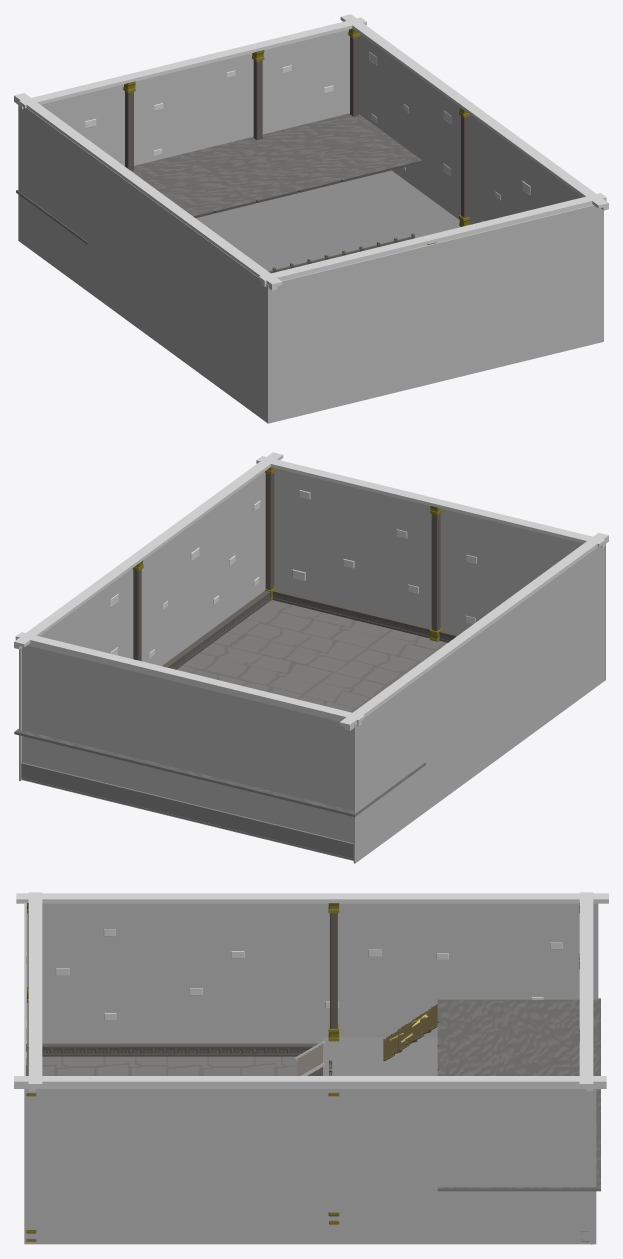
The model's file is main03.fbx.
3 views of the same model, one above another, from view 1: azimuth 30°, elevation 25°; view 2: azimuth 150°, elevation 25°; view 3: azimuth 270°, elevation 25° (orthographic). The views are drawn at different scales.
Parts seen in each view (by area): view 1: 벽, Object106, Box086, Box087, Object100, Object102, fence003; view 2: 벽, 1, Box087, Box086, Object101, Object100, Object106, Object102; view 3: 벽, Box087, Object106, 1, Box086, Object101, Object100, Object103, Object102, Object104.
Part boxes in pixels (bbox=[...]): 벽: bbox=[18, 29, 603, 423]; Object106: bbox=[16, 113, 422, 244]; Box086: bbox=[196, 170, 460, 271]; Box087: bbox=[14, 14, 608, 290]; Object100: bbox=[123, 28, 469, 244]; Object102: bbox=[84, 51, 530, 221]; fence003: bbox=[268, 233, 414, 273]; 벽: bbox=[19, 468, 605, 863]; 1: bbox=[21, 600, 447, 859]; Box087: bbox=[14, 452, 608, 730]; Box086: bbox=[21, 762, 353, 858]; Object101: bbox=[162, 589, 459, 669]; Object100: bbox=[132, 467, 442, 661]; Object106: bbox=[14, 729, 425, 816]; Object102: bbox=[110, 490, 476, 657]; 벽: bbox=[24, 902, 598, 1244]; Box087: bbox=[14, 892, 608, 1091]; Object106: bbox=[437, 998, 600, 1191]; 1: bbox=[42, 1056, 297, 1075]; Box086: bbox=[323, 1037, 437, 1075]; Object101: bbox=[26, 1043, 589, 1241]; Object100: bbox=[26, 903, 579, 1241]; Object103: bbox=[383, 1004, 437, 1060]; Object102: bbox=[26, 929, 562, 1064]; Object104: bbox=[297, 1044, 322, 1075].
Bounding box in the file's own units: 3117 × 1235 × 4088.
